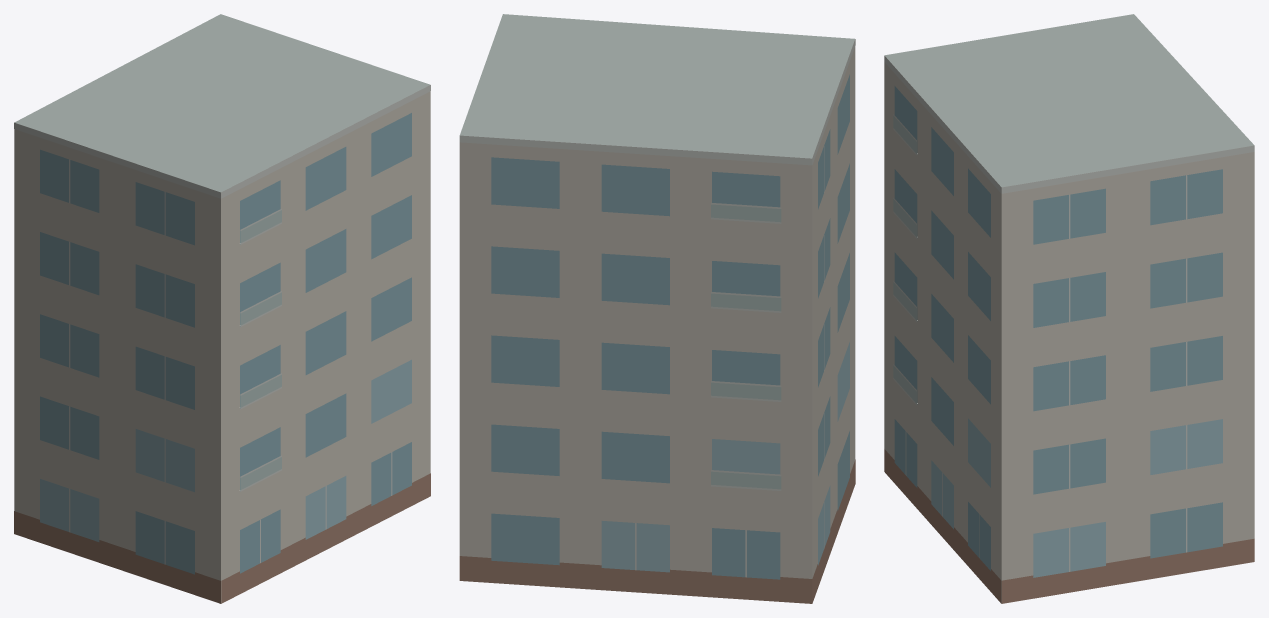
The model's file is survey-upis-32584545.glb.
The picture shows the model from 3 angles, left to right: view 1: azimuth 30°, elevation 25°; view 2: azimuth 150°, elevation 25°; view 3: azimuth 270°, elevation 25°; orthographic projection. The views are drawn at different scales.
Visible parts, largest first — view 1: survey-upis-32584545.tmp; view 2: survey-upis-32584545.tmp; view 3: survey-upis-32584545.tmp.
Boxes of the visible parts, x1,y1,x2,y2 form: survey-upis-32584545.tmp: [14, 14, 430, 603]; survey-upis-32584545.tmp: [459, 14, 855, 603]; survey-upis-32584545.tmp: [884, 14, 1254, 603].
Bounding box in the file's own units: 14.17 × 15.85 × 12.79.
